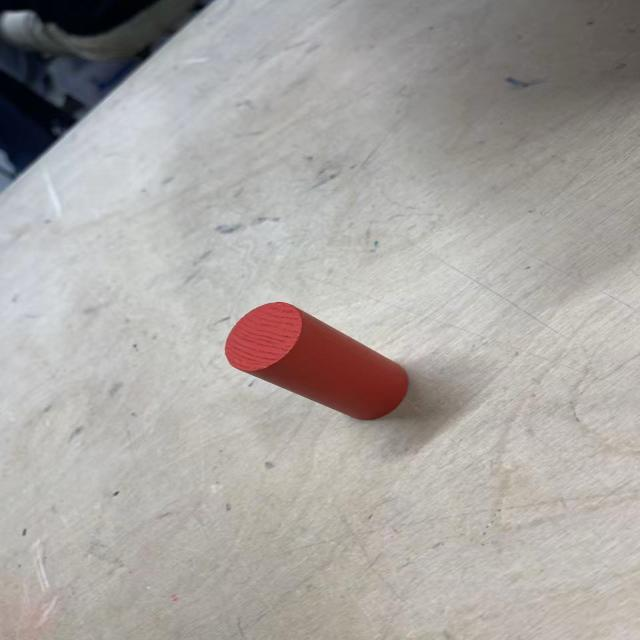red_cylinder: (225, 300, 409, 422)
